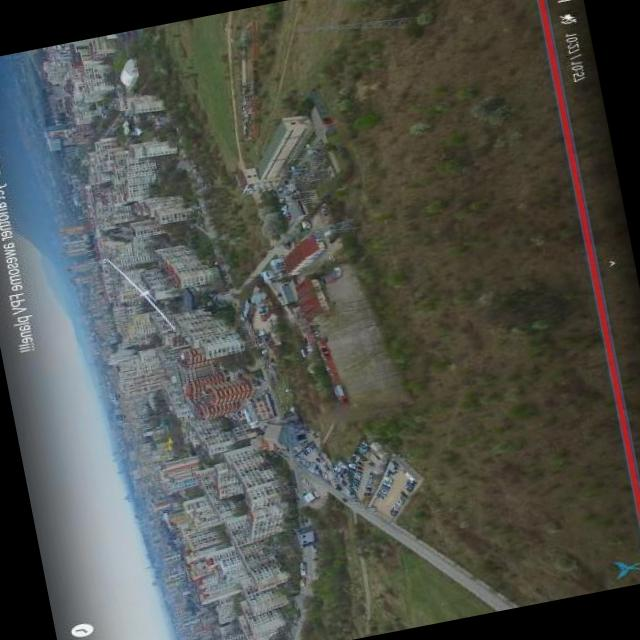UAV: (99, 250, 198, 358)
